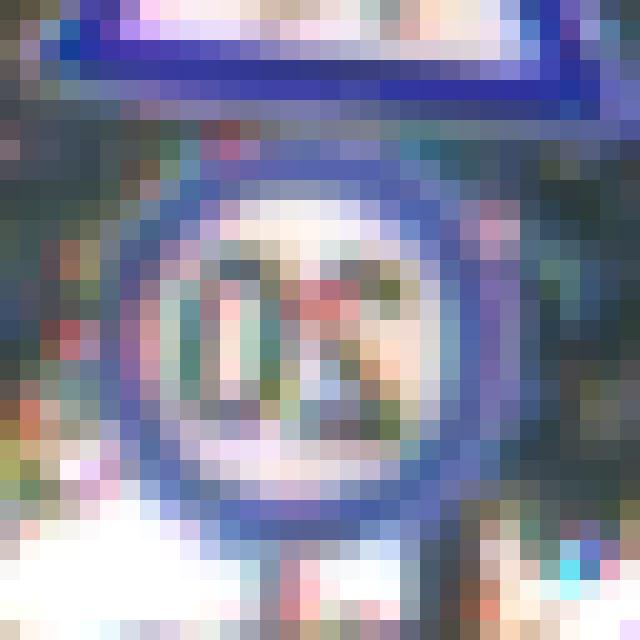SPEED LIMIT 20: (124, 197, 462, 507)
